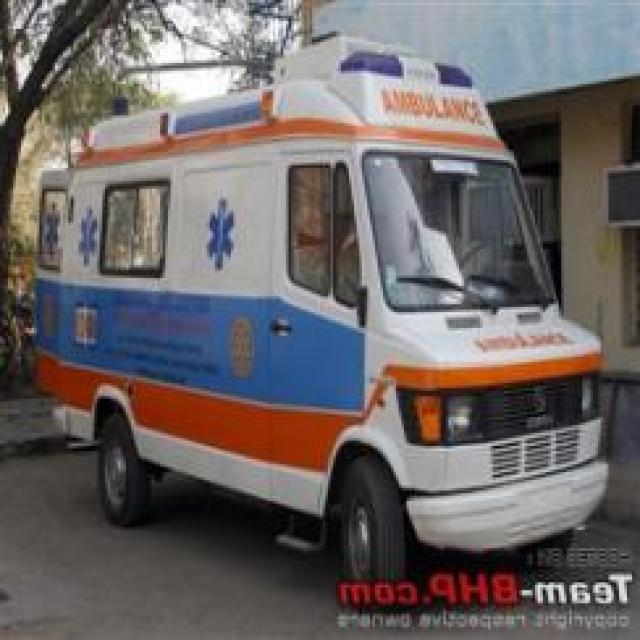Ambulance: (21, 26, 616, 606), (0, 411, 637, 637)
